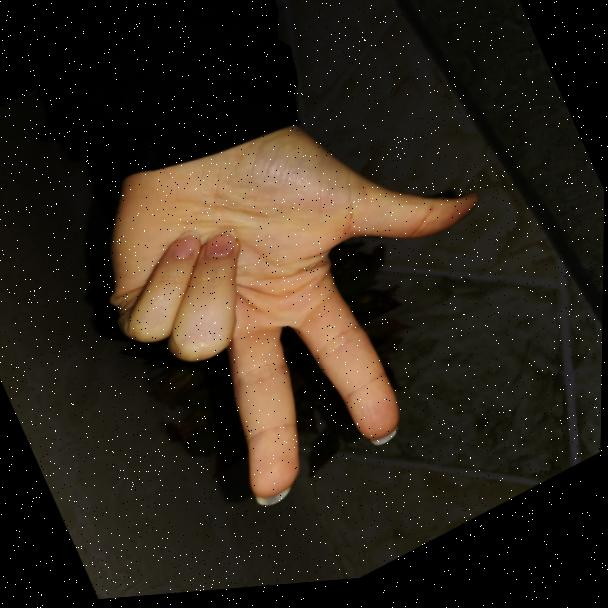three: (43, 39, 542, 561)
